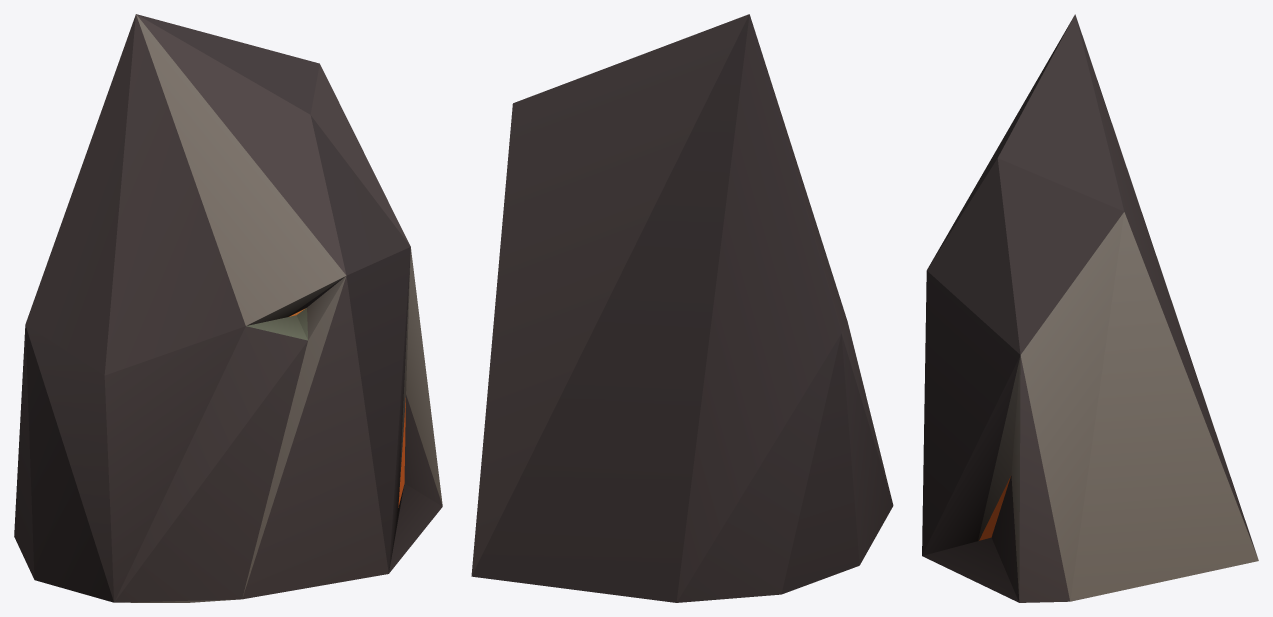
Rendered from ash_rock_b.glb.
The picture shows the model from 3 angles, left to right: view 1: azimuth 30°, elevation 25°; view 2: azimuth 150°, elevation 25°; view 3: azimuth 270°, elevation 25°; orthographic projection. The views are drawn at different scales.
Visible parts, largest first — view 1: ca_ash_rock_b; view 2: ca_ash_rock_b; view 3: ca_ash_rock_b.
Boxes of the visible parts, bbox=[...] form: ca_ash_rock_b: bbox=[14, 14, 442, 602]; ca_ash_rock_b: bbox=[471, 14, 893, 602]; ca_ash_rock_b: bbox=[922, 14, 1258, 602].
Size of the model in its own units: 1.03 by 1.38 by 0.8938.
1 material, 1 textured.
